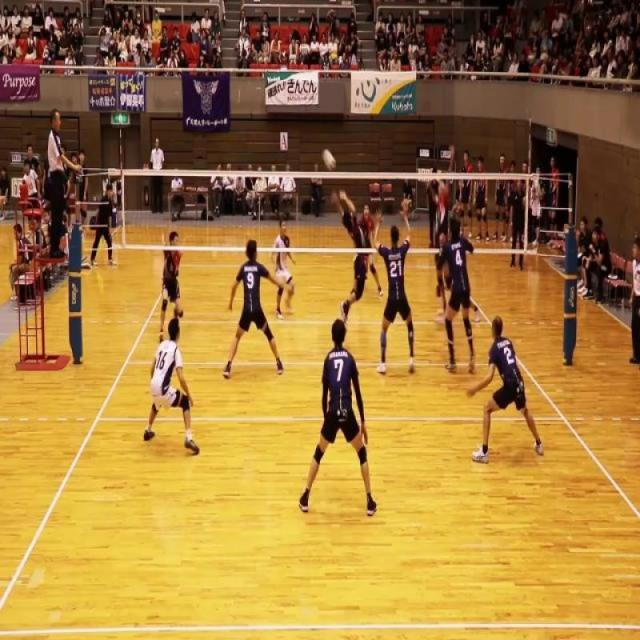volleyball: (321, 146, 337, 170)
